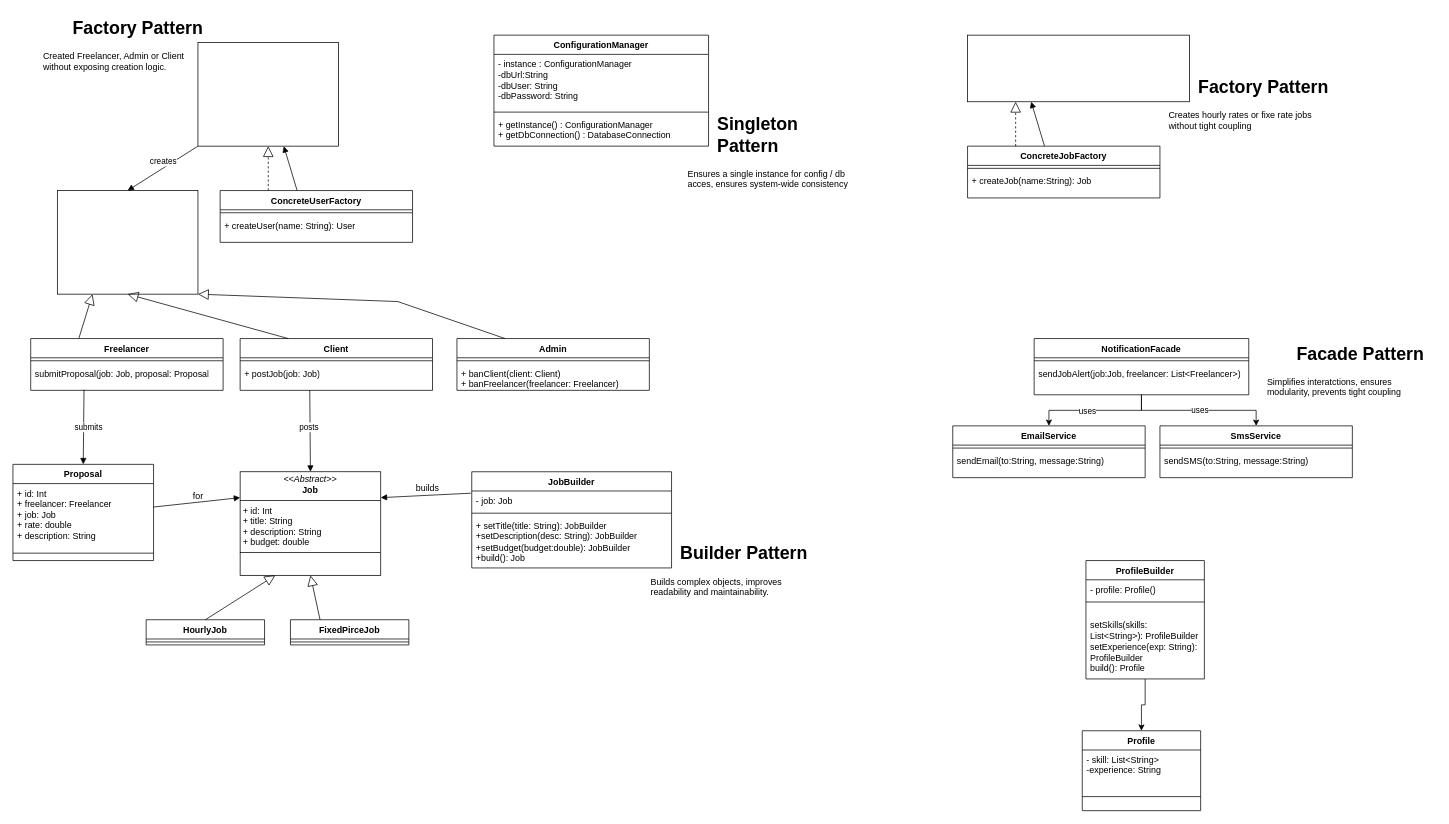
The diagram is 1449 pixels wide and 824 high, and some of its shapes have lost their labels. Here are the shapes that lost their labels. From the top down, the centre of each, then its label:
the point at 1078,68: <<Interface>> JobFactory + createJob(type:String, title:String): Job
the point at 268,94: <<Interface>> UserFactory + createUser(name: String): User
the point at 127,242: <<Abstract>> User + id: Int + name: String + login() + logout()
